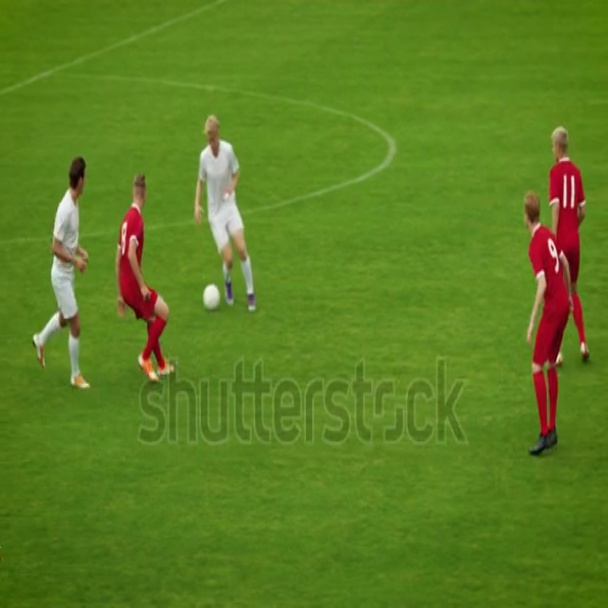ball: (205, 281, 223, 317)
